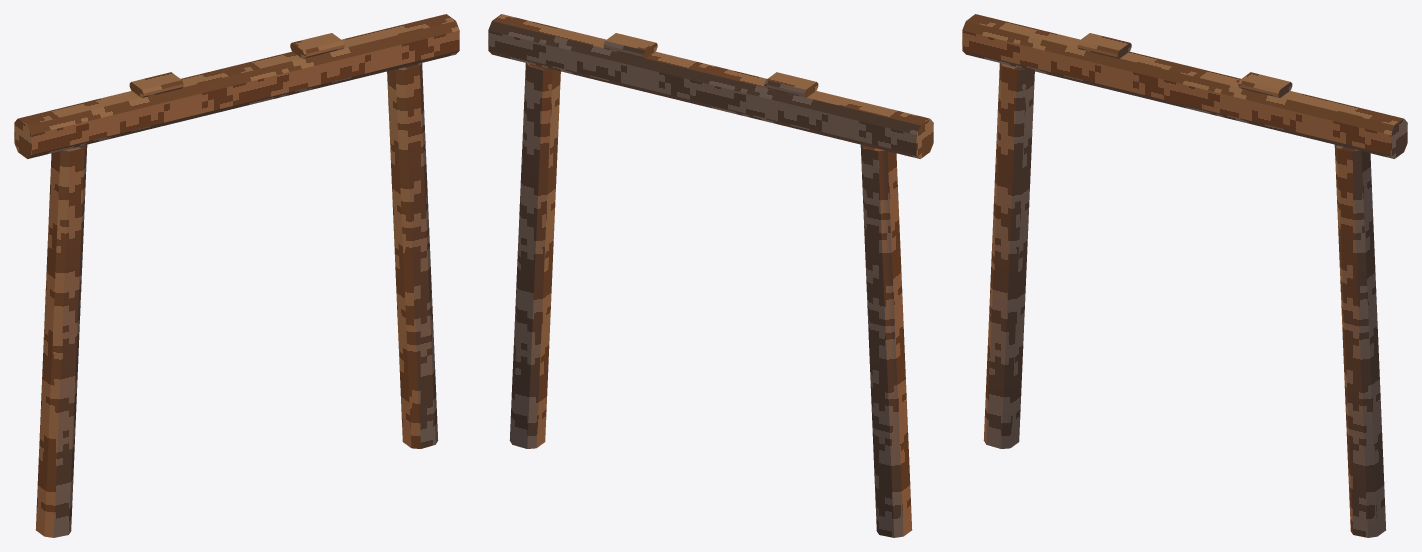
Rendered from wmine.timber_set.glb.
3 views of the same model, side by side, from view 1: azimuth 30°, elevation 25°; view 2: azimuth 150°, elevation 25°; view 3: azimuth 330°, elevation 25° (orthographic).
Parts seen in each view (by area): view 1: kit_sets, kit_caps, kit_wedges; view 2: kit_sets, kit_caps, kit_wedges; view 3: kit_sets, kit_caps, kit_wedges.
Part boxes in pixels (x1=…): kit_sets: x1=35, y1=63, x2=438, y2=537; kit_caps: x1=14, y1=14, x2=459, y2=158; kit_wedges: x1=129, y1=33, x2=344, y2=97; kit_sets: x1=509, y1=63, x2=912, y2=537; kit_caps: x1=488, y1=14, x2=933, y2=158; kit_wedges: x1=603, y1=33, x2=818, y2=97; kit_sets: x1=983, y1=63, x2=1386, y2=537; kit_caps: x1=962, y1=14, x2=1407, y2=158; kit_wedges: x1=1077, y1=33, x2=1292, y2=97.
Bounding box in the file's own units: 3.2 × 3.03 × 0.22.
2 materials, 2 textured.
